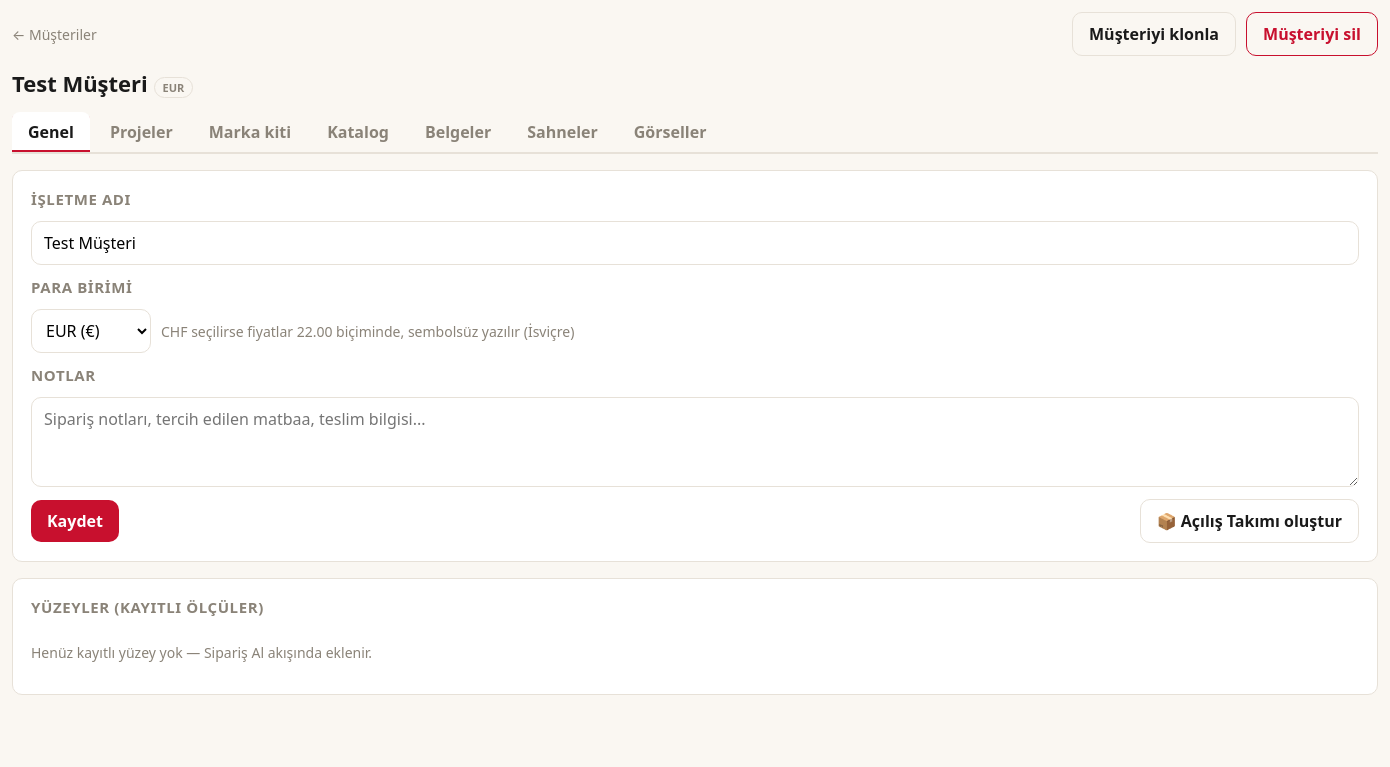
Test: Açılış Takımı — preset + belgeler tek işlemde › TEK TIKLA preset koşar VE her kalem için belge açılır
Click the button "📦 Açılış Takımı oluştur" at (1249, 521), box [1140,499,1359,543]
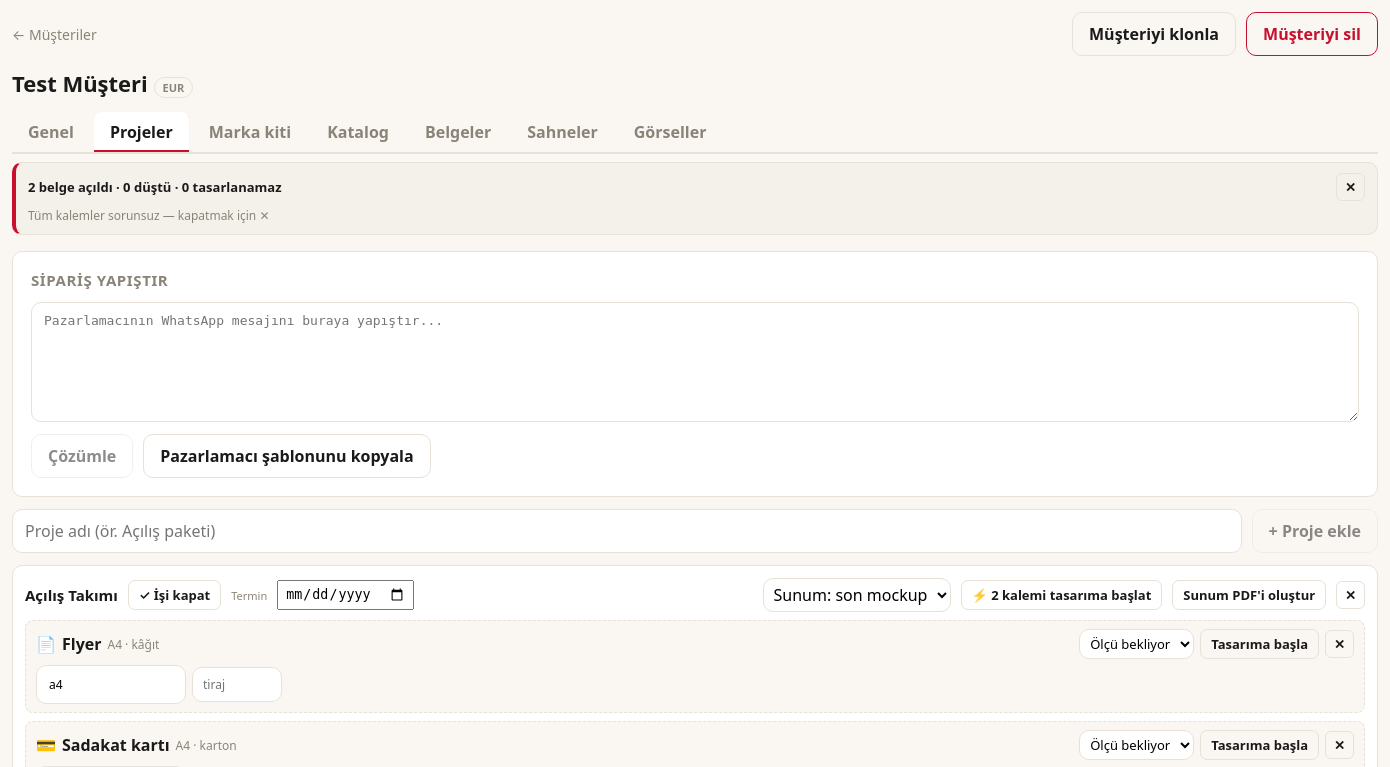
Now the text "2 belge açıldı · 0 düştü · 0 tasarlanamaz" is shown, box [28,178,282,196]
